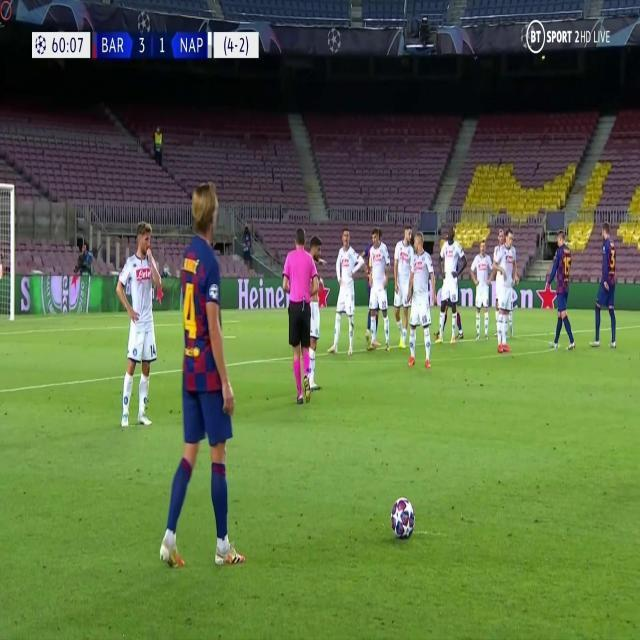ball: (386, 488, 419, 543)
player: (158, 164, 249, 574), (111, 216, 165, 437), (276, 220, 325, 403), (404, 228, 437, 378), (327, 225, 362, 359), (361, 227, 393, 354), (589, 224, 620, 352), (435, 221, 465, 346), (490, 226, 518, 355), (548, 233, 577, 354), (390, 221, 416, 348), (470, 233, 493, 342)
